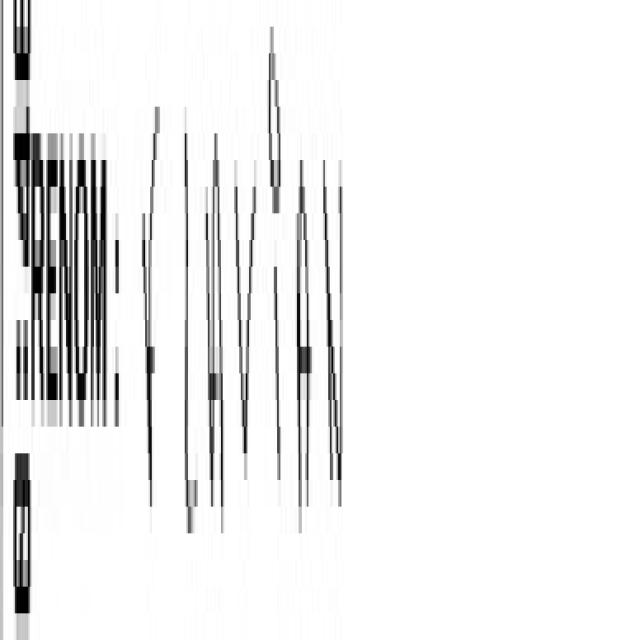A: (291, 43, 318, 640), (207, 23, 228, 562)
I: (268, 12, 286, 570)
L: (182, 23, 204, 640)
N: (321, 64, 352, 628)
V: (131, 64, 175, 562), (230, 64, 263, 611)
